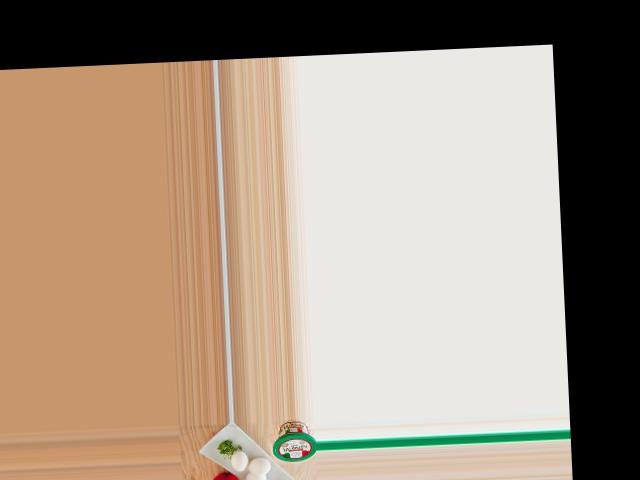bell_pepper: (202, 472, 248, 480)
